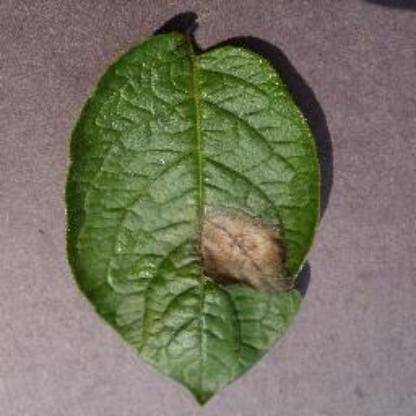Late-Blight: (40, 29, 392, 408)
